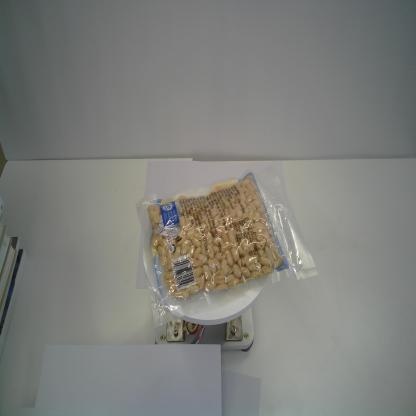Dried Fruit: (136, 162, 318, 329)
